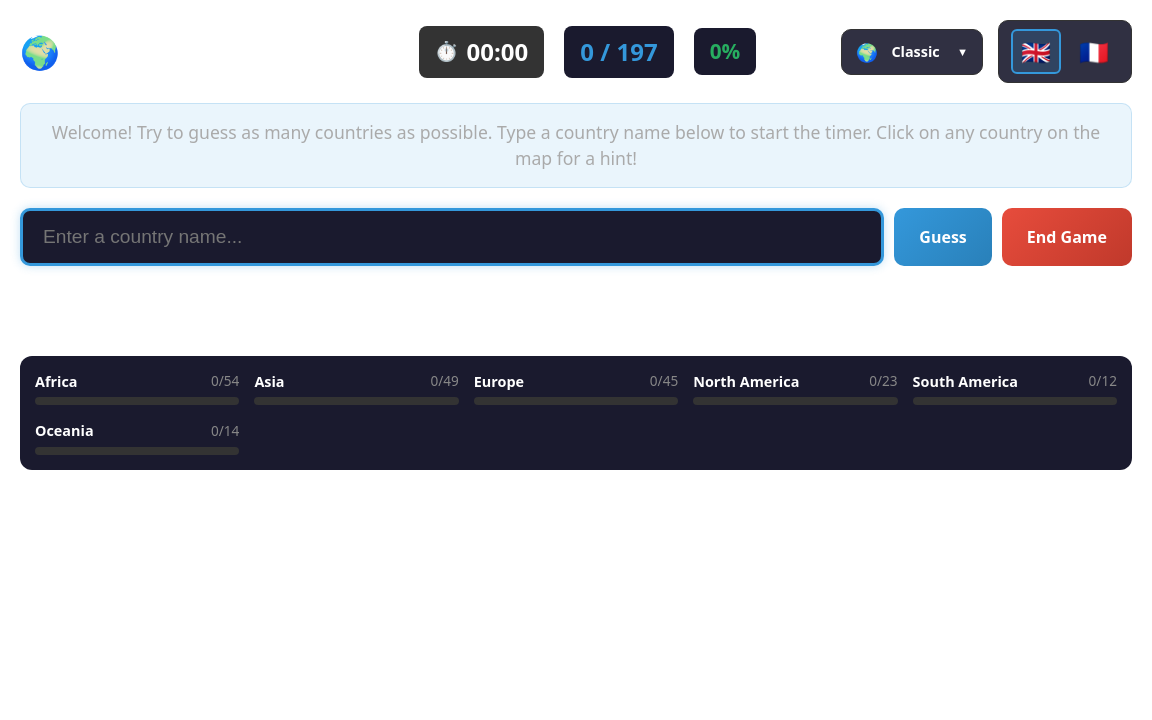
it: Game Component › country guessing flow › should start timer on first guess
Expected: the text "00:00" is shown, [466, 34, 528, 70]
In the field with placeholder "Enter a country name...": (452,237) [20, 208, 884, 266], type "France"
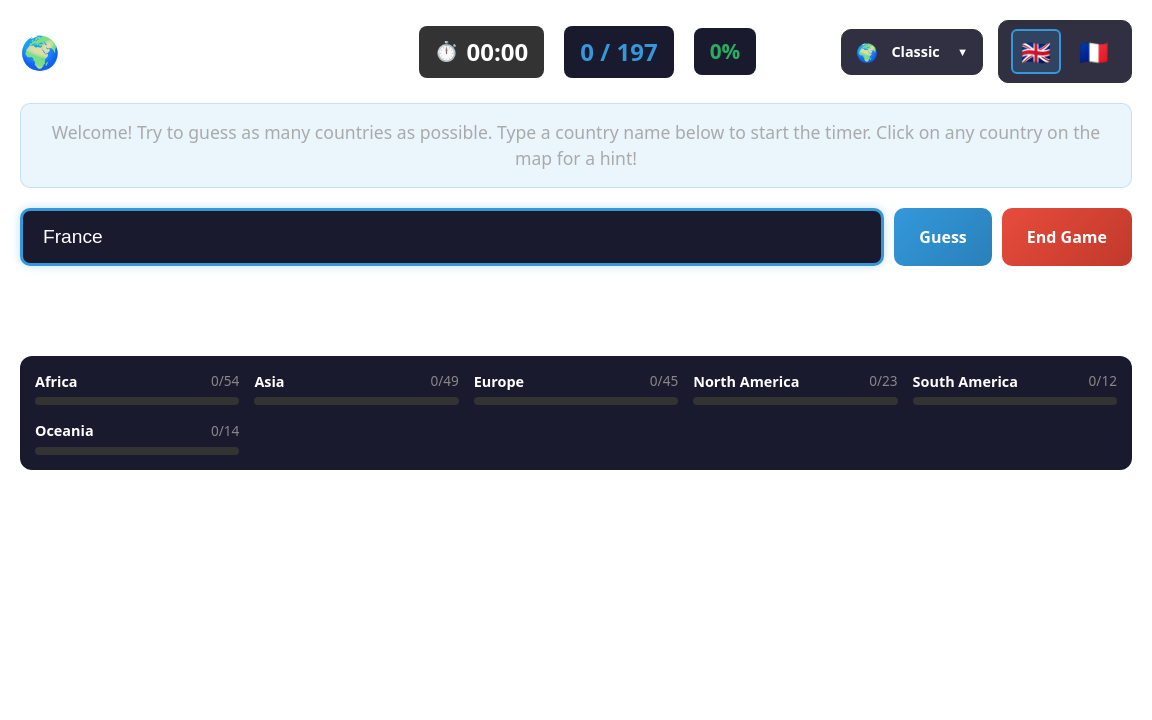
Click the button "Guess": (943,237) [894, 208, 992, 266]
Wait 2000 ms
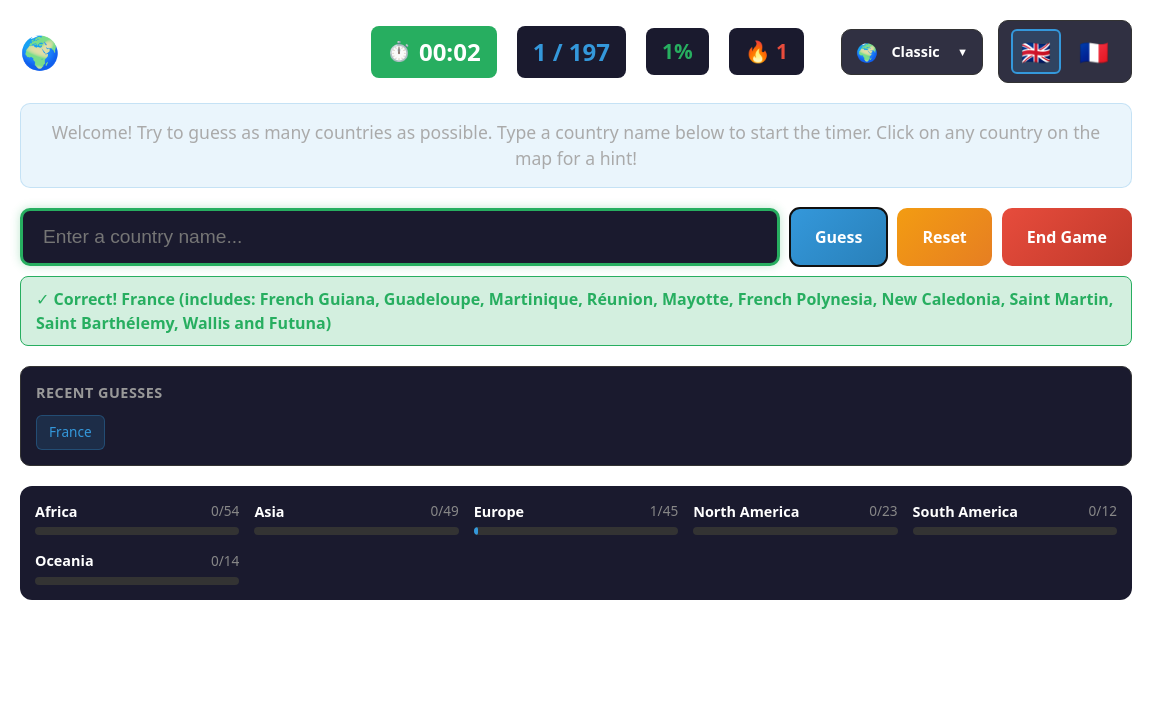
Result: the text "00:02" is shown at [419, 34, 481, 70]
